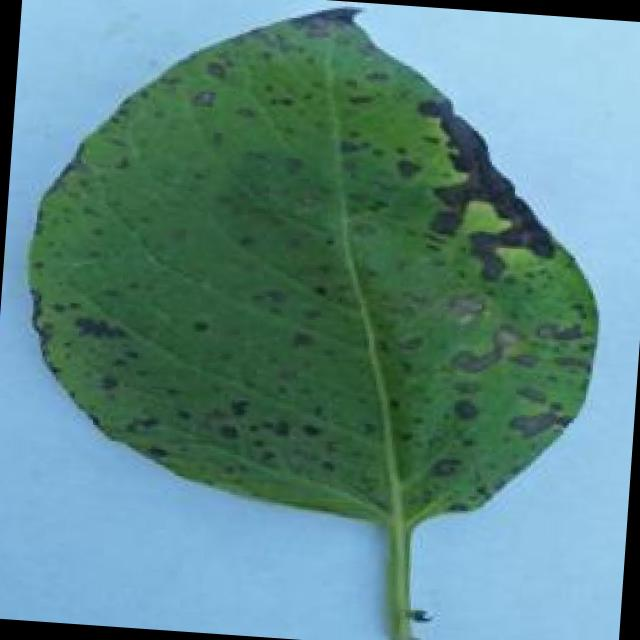Potato_Early_Blight: (4, 0, 632, 551)
